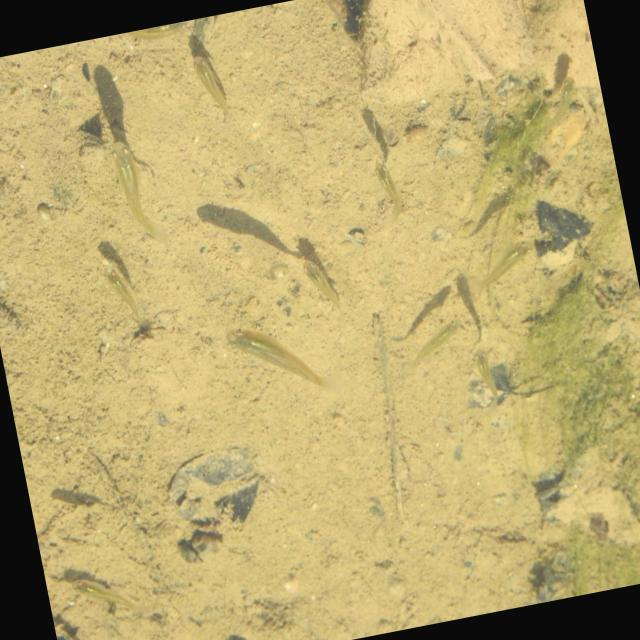Sivrisinek Baligi: (225, 304, 348, 416), (97, 126, 173, 258), (91, 232, 146, 330), (468, 232, 542, 304), (72, 565, 144, 628), (398, 316, 467, 372), (184, 35, 232, 114), (366, 160, 406, 222), (469, 340, 501, 408), (0, 101, 13, 175)
